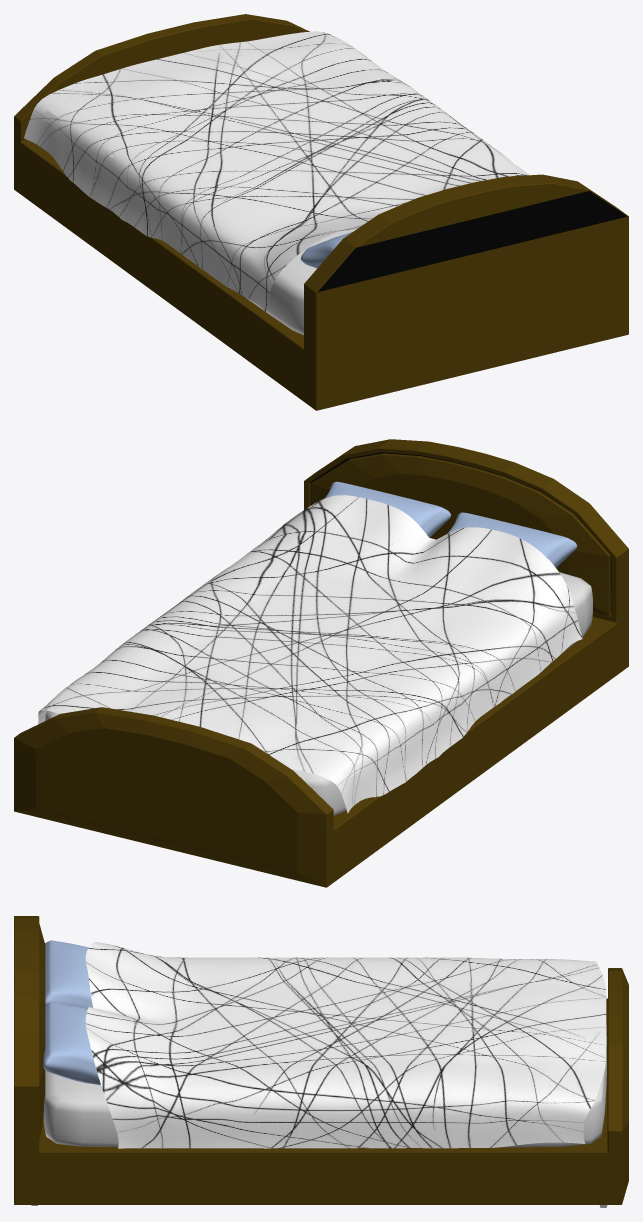
Rendered from Bed.fbx.
The picture shows the model from 3 angles, top to bottom: view 1: azimuth 30°, elevation 25°; view 2: azimuth 150°, elevation 25°; view 3: azimuth 270°, elevation 25°; orthographic projection.
Parts seen in each view (by area): view 1: pCube180, pPlane4, pCube181, pCube183; view 2: pPlane4, pCube180, pCube181, pCube183, pCube182; view 3: pPlane4, pCube180, pCube181, pCube182, pCube183.
Boxes of the visible parts, <box> form: pCube180: <box>14,14,628,410</box>; pPlane4: <box>24,31,529,311</box>; pCube181: <box>246,228,357,334</box>; pCube183: <box>301,232,352,268</box>; pPlane4: <box>38,495,583,813</box>; pCube180: <box>14,439,628,887</box>; pCube181: <box>45,572,592,815</box>; pCube183: <box>446,512,577,567</box>; pCube182: <box>325,481,451,537</box>; pPlane4: <box>85,942,606,1148</box>; pCube180: <box>14,916,628,1204</box>; pCube181: <box>43,1026,606,1147</box>; pCube182: <box>43,1002,100,1084</box>; pCube183: <box>45,940,93,1008</box>.
Bounding box in the file's own units: 3.75 × 2.08 × 6.24.
6 materials, 1 textured.
